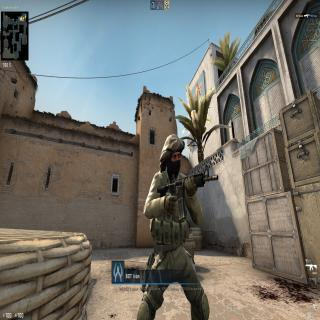CT-Head: (159, 130, 185, 178)
